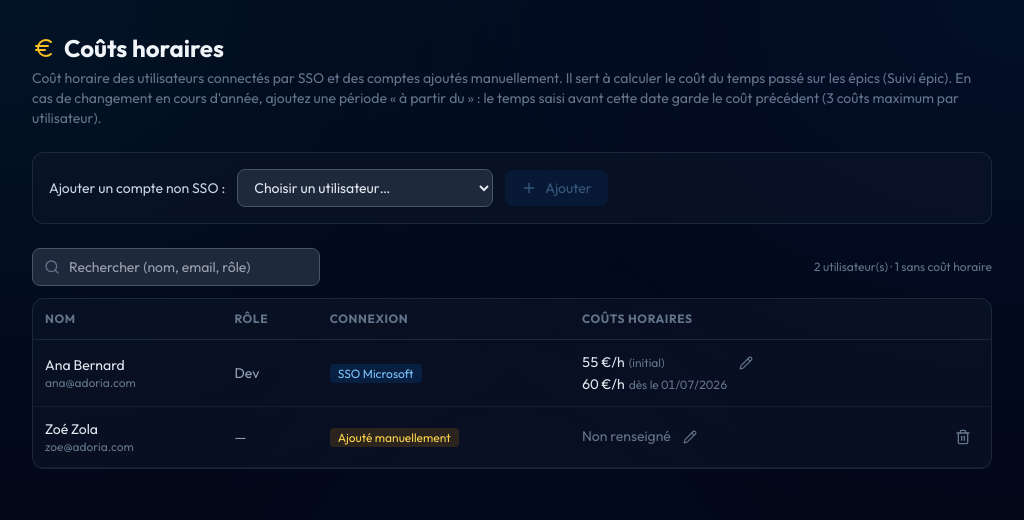
Test: CostsPage › saisit un coût initial (virgule acceptée)
Click the button named "Modifier les coûts de Zoé Zola". click: (690, 437)
box: [679,426,701,448]
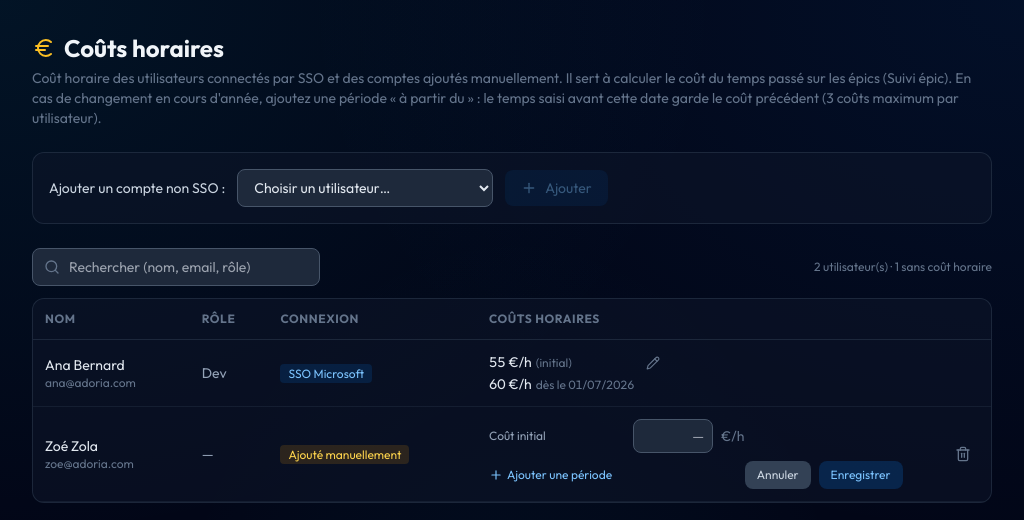
Type "42,5" into the field named "Coût initial de Zoé Zola". click: (673, 436)
box: [633,419,713,453]
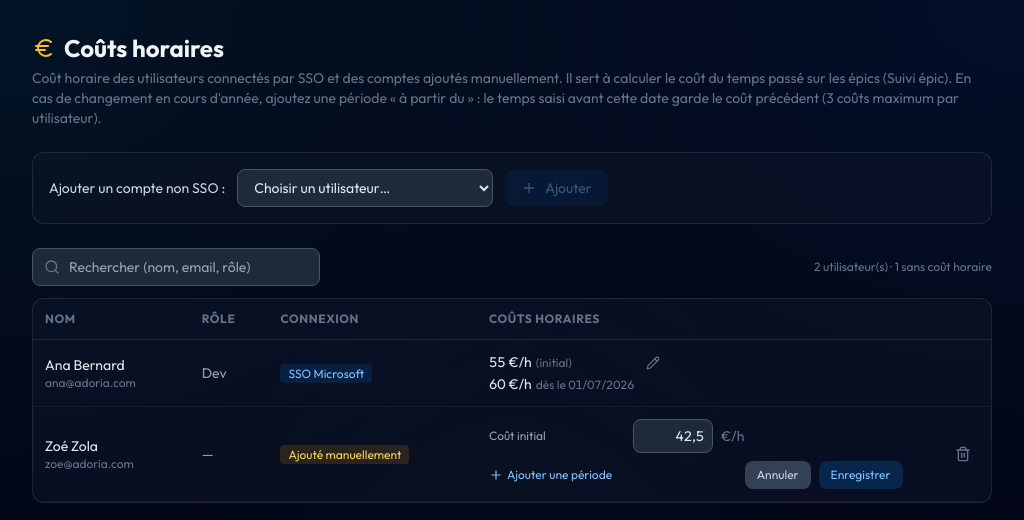
Click the button "Enregistrer". click: (861, 475)
box: [819,461,903,489]
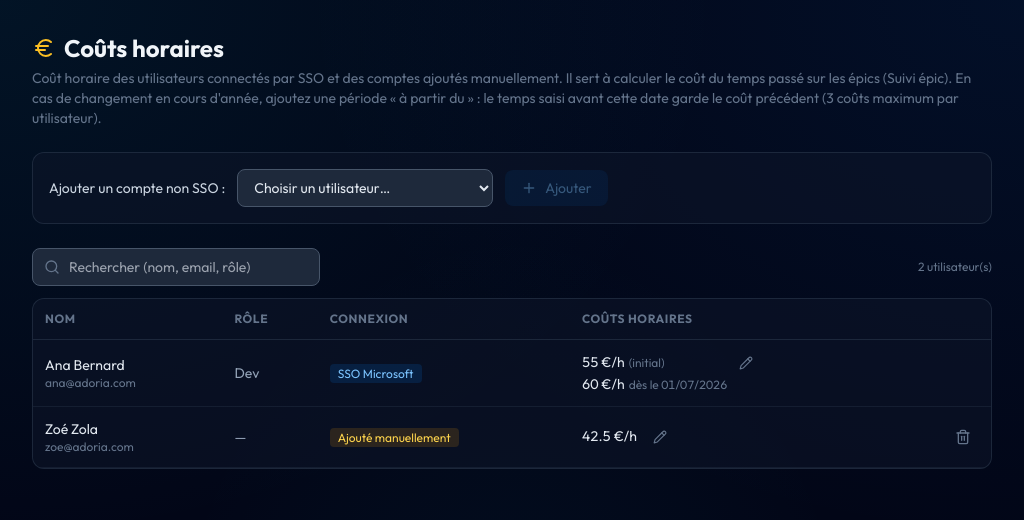
Now the list named "Coûts horaires de Zoé Zola" reads "42.5 €/h", box [582,426,641,446]
